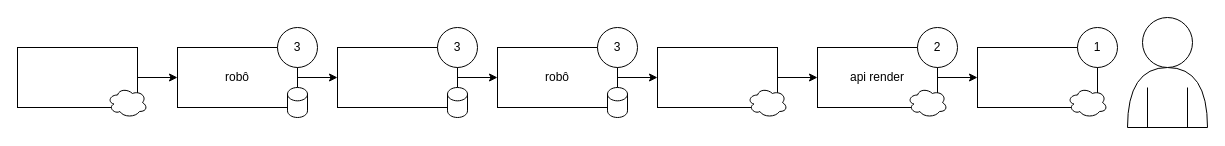
The diagram is 1225 pixels wide and 146 high, and some of its shapes have lost their labels. Here are the shapes that lost their labels. From the top down, the box of each, then its label:
(16, 46, 138, 108): pncp
(336, 46, 458, 108): mongo_local
(656, 46, 778, 108): nuvem mongo
(976, 46, 1098, 108): front end estático
